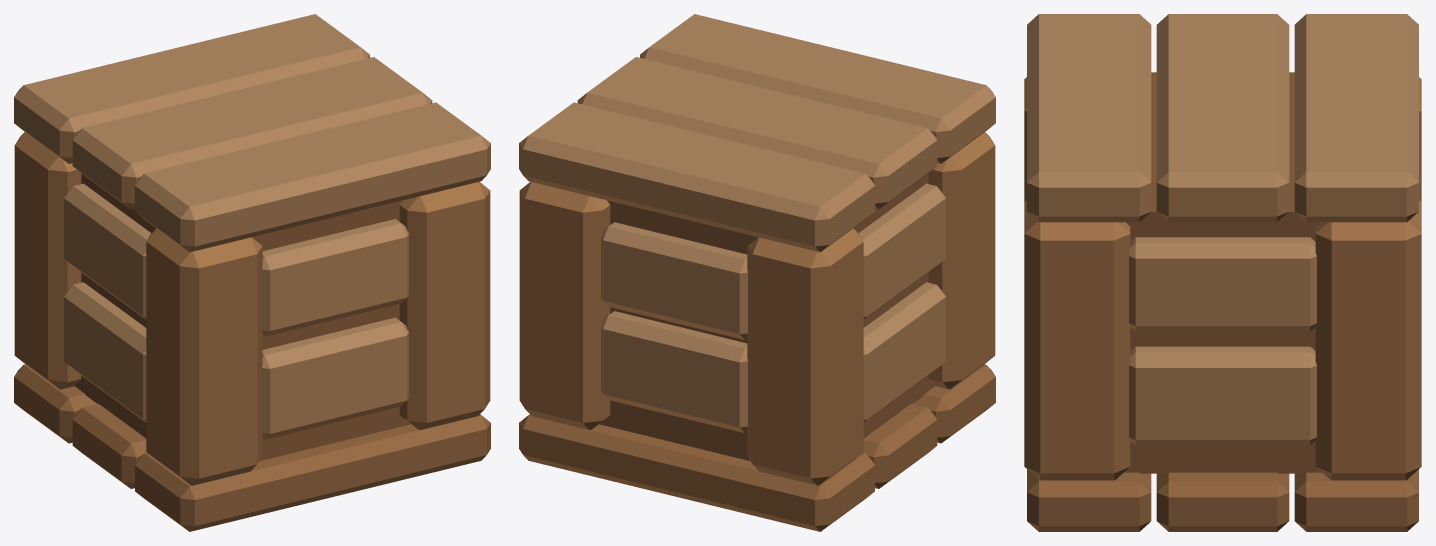
Rendered from ranch_crate.fbx.
The picture shows the model from 3 angles, left to right: view 1: azimuth 30°, elevation 25°; view 2: azimuth 150°, elevation 25°; view 3: azimuth 270°, elevation 25°; orthographic projection. The views are drawn at different scales.
Visible parts, largest first — view 1: ranch_crate; view 2: ranch_crate; view 3: ranch_crate.
Part boxes in pixels (box(x1,y1,x2,y2)): ranch_crate: box(14, 14, 490, 531); ranch_crate: box(519, 14, 995, 531); ranch_crate: box(1024, 14, 1421, 531).
Size of the model in its own units: 3 by 3 by 3.
